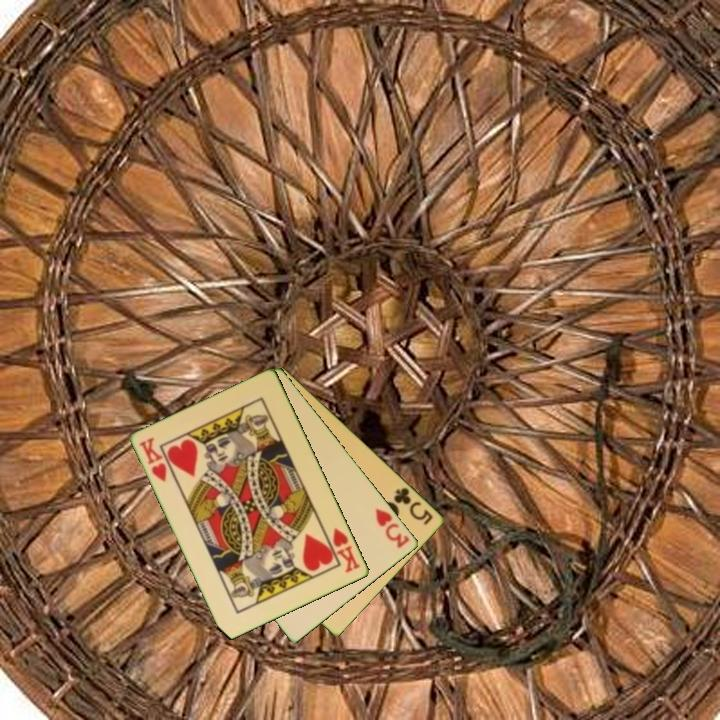3h: (372, 505, 413, 551)
5c: (390, 484, 436, 528)
Kh: (322, 524, 363, 576), (136, 434, 170, 485)
